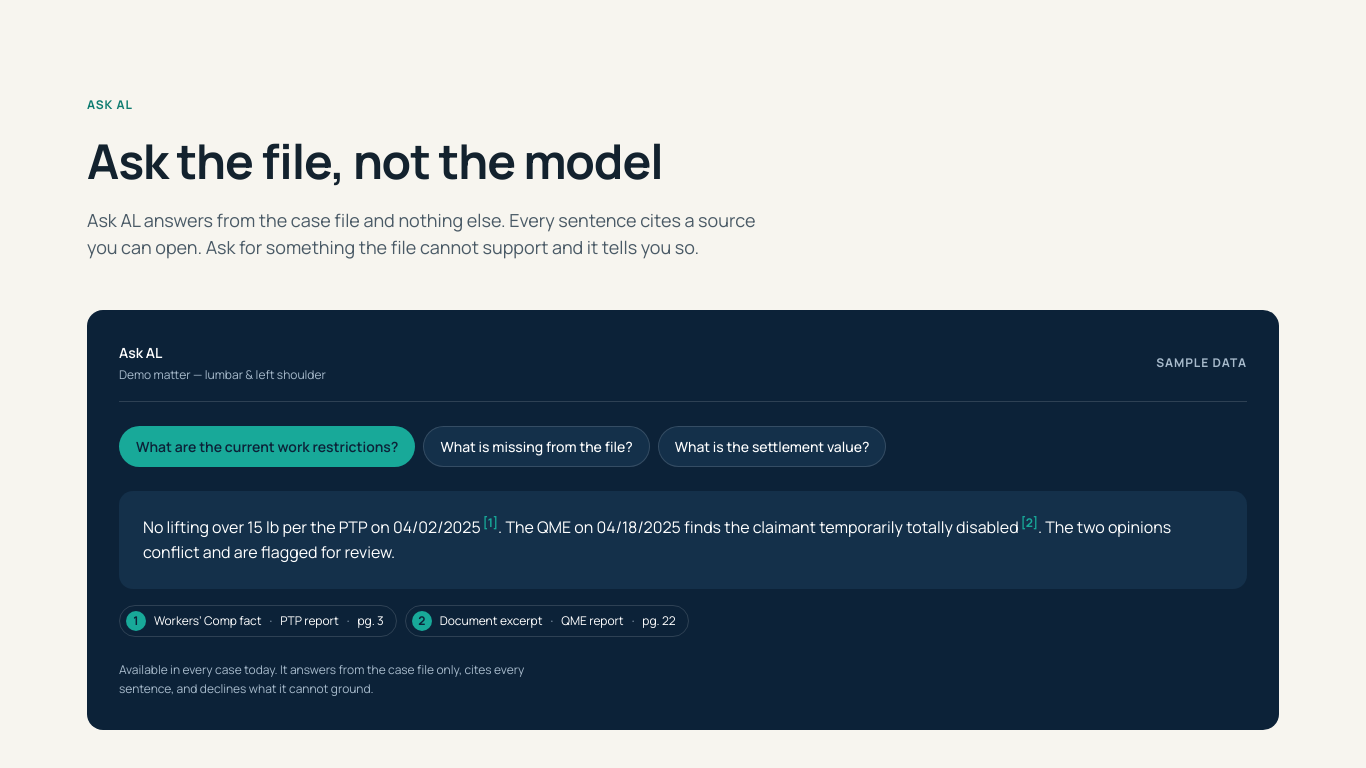
Test: AskAl › refuses the settlement question with no chips
What coordinates should you click on to do the following:
click the tab "What is the settlement value?"
I would click on:
 (772, 447)
Its box is [658, 426, 886, 467].
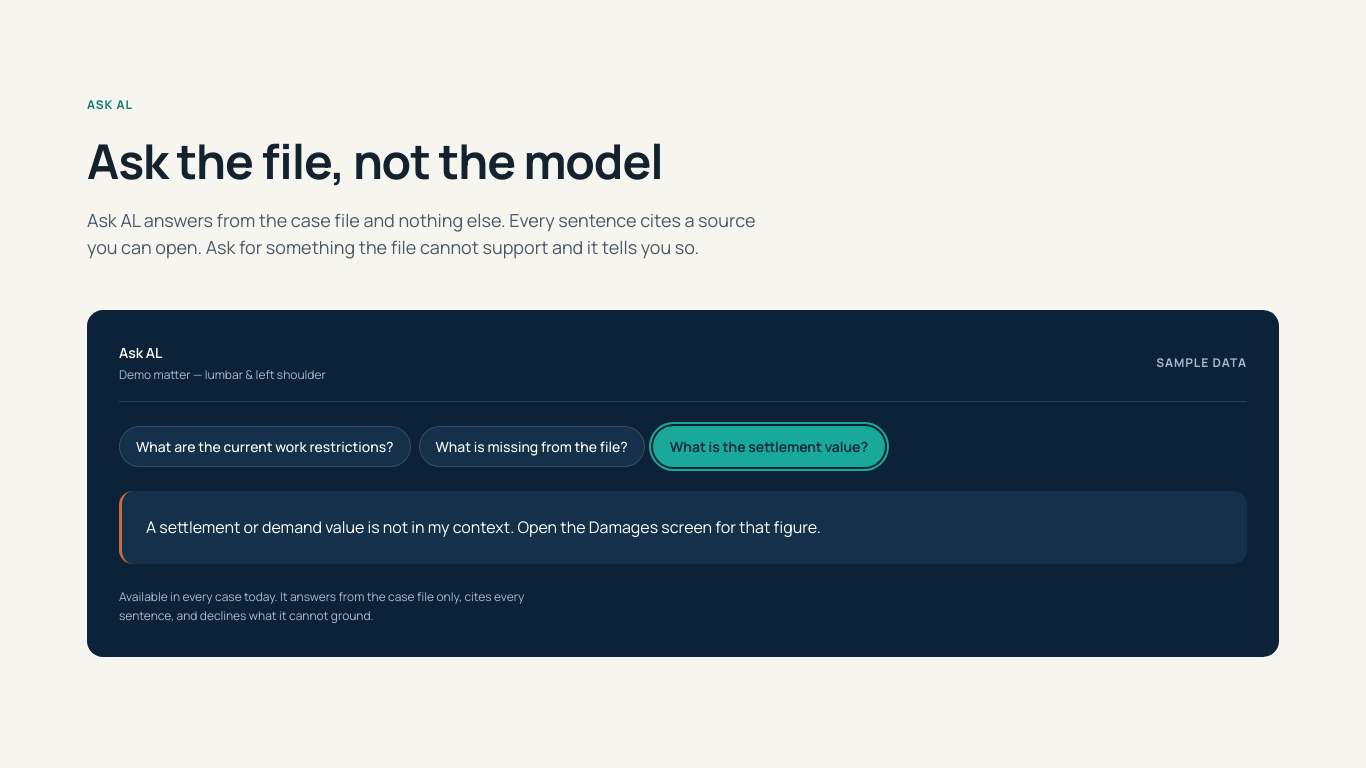
expect the element with test id "askal-answer" shows "not in my context": met, box [146, 516, 821, 538]
